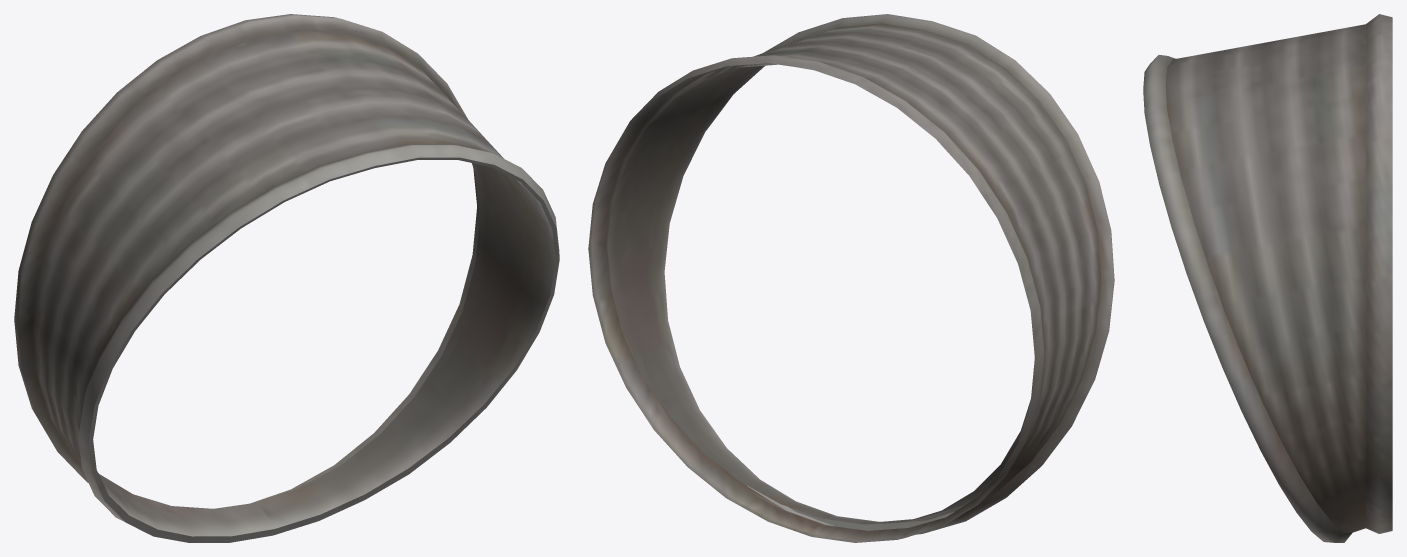
The model's file is circular_bend_quater.gltf.
The picture shows the model from 3 angles, left to right: view 1: azimuth 30°, elevation 25°; view 2: azimuth 150°, elevation 25°; view 3: azimuth 270°, elevation 25°; orthographic projection. The views are drawn at different scales.
Visible parts, largest first — view 1: circular_bend_quater; view 2: circular_bend_quater; view 3: circular_bend_quater.
Part boxes in pixels (bbox=[...]): circular_bend_quater: bbox=[14, 14, 559, 542]; circular_bend_quater: bbox=[588, 14, 1114, 542]; circular_bend_quater: bbox=[1143, 14, 1392, 542].
Size of the model in its own units: 0.3713 by 0.377 by 0.178.
Materials: 1 (1 with a texture image).
